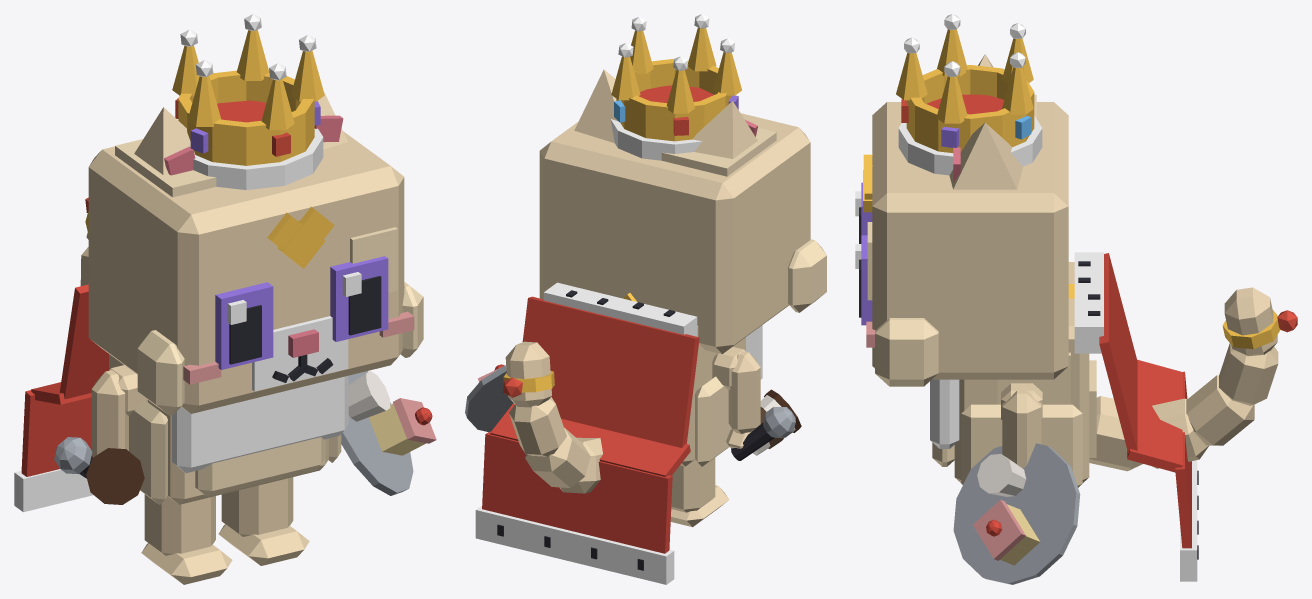
File: CatCafe_Cat_Queen_Work.glb
3 renders of one model, left to right at view 1: azimuth 30°, elevation 25°; view 2: azimuth 150°, elevation 25°; view 3: azimuth 270°, elevation 25°, orthographic. The views are drawn at different scales.
Visible parts, largest first — view 1: CatCafe_Cat_Queen_Work_Head, CatCafe_Cat_Queen_Work_Body, CatCafe_Cat_Queen_Work_Prop, CatCafe_Cat_Queen_Work_Prop2, CatCafe_Cat_Queen_Work_Held_Waiter, CatCafe_Cat_Queen_Work_LegB2, CatCafe_Cat_Queen_Work_LegB1, CatCafe_Cat_Queen_Work_Eye2, CatCafe_Cat_Queen_Work_Eye1, CatCafe_Cat_Queen_Work_LegF2, CatCafe_Cat_Queen_Work_Held_Barista, CatCafe_Cat_Queen_Work_EarR (+3 smaller); view 2: CatCafe_Cat_Queen_Work_Head, CatCafe_Cat_Queen_Work_Prop2, CatCafe_Cat_Queen_Work_Prop, CatCafe_Cat_Queen_Work_Tail, CatCafe_Cat_Queen_Work_Body, CatCafe_Cat_Queen_Work_LegB2, CatCafe_Cat_Queen_Work_LegF2, CatCafe_Cat_Queen_Work_EarR, CatCafe_Cat_Queen_Work_Held_Waiter, CatCafe_Cat_Queen_Work_EarL, CatCafe_Cat_Queen_Work_Held_Entertainer, CatCafe_Cat_Queen_Work_Tail_Ring (+2 smaller); view 3: CatCafe_Cat_Queen_Work_Head, CatCafe_Cat_Queen_Work_Prop2, CatCafe_Cat_Queen_Work_Held_Waiter, CatCafe_Cat_Queen_Work_Prop, CatCafe_Cat_Queen_Work_Body, CatCafe_Cat_Queen_Work_Tail, CatCafe_Cat_Queen_Work_EarL, CatCafe_Cat_Queen_Work_LegF1, CatCafe_Cat_Queen_Work_Tail_Ring, CatCafe_Cat_Queen_Work_Eye1, CatCafe_Cat_Queen_Work_Gem_Glow.
Part boxes in pixels (<box>): CatCafe_Cat_Queen_Work_Head: <box>88,131,423,415</box>; CatCafe_Cat_Queen_Work_Body: <box>109,354,348,504</box>; CatCafe_Cat_Queen_Work_Prop: <box>172,14,324,189</box>; CatCafe_Cat_Queen_Work_Prop2: <box>14,284,108,512</box>; CatCafe_Cat_Queen_Work_Held_Waiter: <box>341,371,436,495</box>; CatCafe_Cat_Queen_Work_LegB2: <box>141,494,232,584</box>; CatCafe_Cat_Queen_Work_LegB1: <box>218,477,309,565</box>; CatCafe_Cat_Queen_Work_Eye2: <box>215,282,273,369</box>; CatCafe_Cat_Queen_Work_Eye1: <box>330,256,388,341</box>; CatCafe_Cat_Queen_Work_LegF2: <box>91,370,128,456</box>; CatCafe_Cat_Queen_Work_Held_Barista: <box>86,448,144,504</box>; CatCafe_Cat_Queen_Work_EarR: <box>134,107,195,175</box>; CatCafe_Cat_Queen_Work_Head: <box>539,113,826,354</box>; CatCafe_Cat_Queen_Work_Prop2: <box>475,282,699,584</box>; CatCafe_Cat_Queen_Work_Prop: <box>610,14,741,160</box>; CatCafe_Cat_Queen_Work_Tail: <box>505,341,602,493</box>; CatCafe_Cat_Queen_Work_Body: <box>680,325,762,466</box>; CatCafe_Cat_Queen_Work_LegB2: <box>670,457,729,527</box>; CatCafe_Cat_Queen_Work_LegF2: <box>726,351,760,448</box>; CatCafe_Cat_Queen_Work_EarR: <box>692,101,757,158</box>; CatCafe_Cat_Queen_Work_Held_Waiter: <box>465,364,513,431</box>; CatCafe_Cat_Queen_Work_EarL: <box>574,69,617,142</box>; CatCafe_Cat_Queen_Work_Held_Entertainer: <box>731,407,795,460</box>; CatCafe_Cat_Queen_Work_Tail_Ring: <box>503,371,554,397</box>; CatCafe_Cat_Queen_Work_Head: <box>863,94,1068,386</box>; CatCafe_Cat_Queen_Work_Prop2: <box>1068,252,1198,581</box>; CatCafe_Cat_Queen_Work_Held_Waiter: <box>953,443,1080,584</box>; CatCafe_Cat_Queen_Work_Prop: <box>896,14,1042,175</box>; CatCafe_Cat_Queen_Work_Body: <box>930,262,1096,487</box>; CatCafe_Cat_Queen_Work_Tail: <box>1089,287,1278,471</box>; CatCafe_Cat_Queen_Work_EarL: <box>949,122,1022,189</box>; CatCafe_Cat_Queen_Work_LegF1: <box>1002,390,1041,468</box>; CatCafe_Cat_Queen_Work_Tail_Ring: <box>1222,310,1297,349</box>; CatCafe_Cat_Queen_Work_Eye1: <box>855,235,872,325</box>; CatCafe_Cat_Queen_Work_Gem_Glow: <box>901,99,1031,147</box>.
Size of the model in its own units: 1.84 by 2.57 by 2.06.
Materials: 1 (1 with a texture image).
